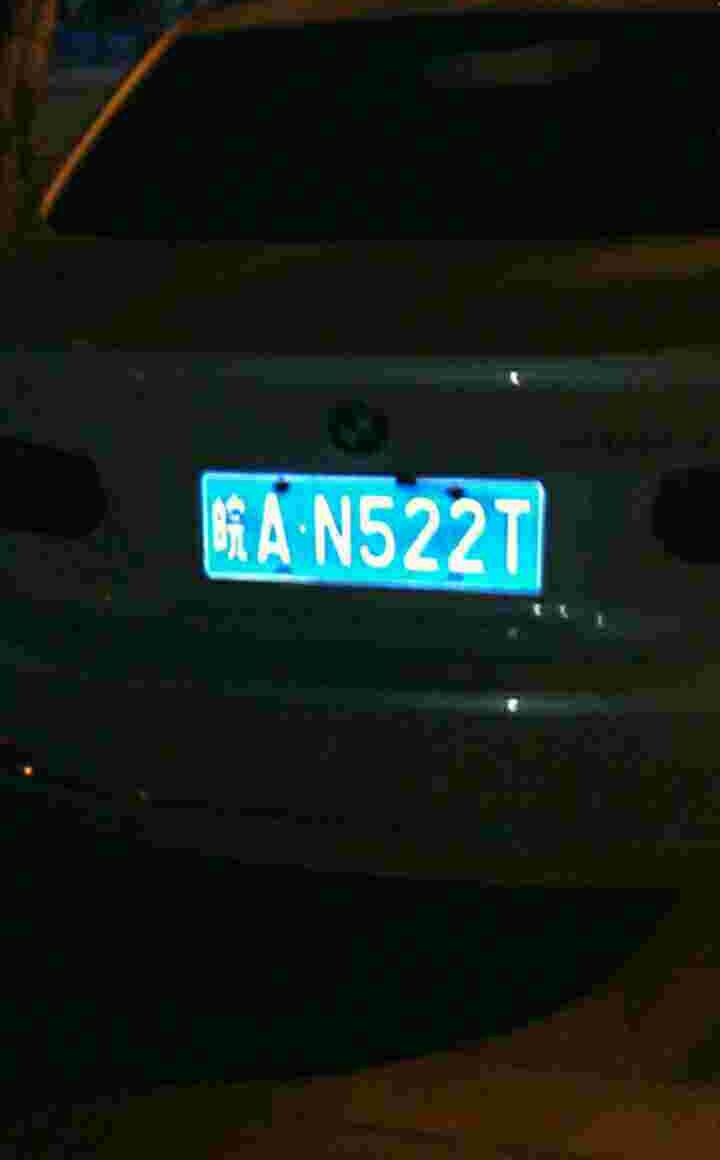license_plate: (191, 465, 537, 576)
